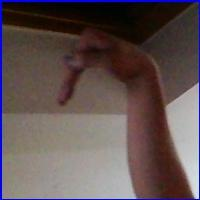del: (52, 24, 155, 112)
